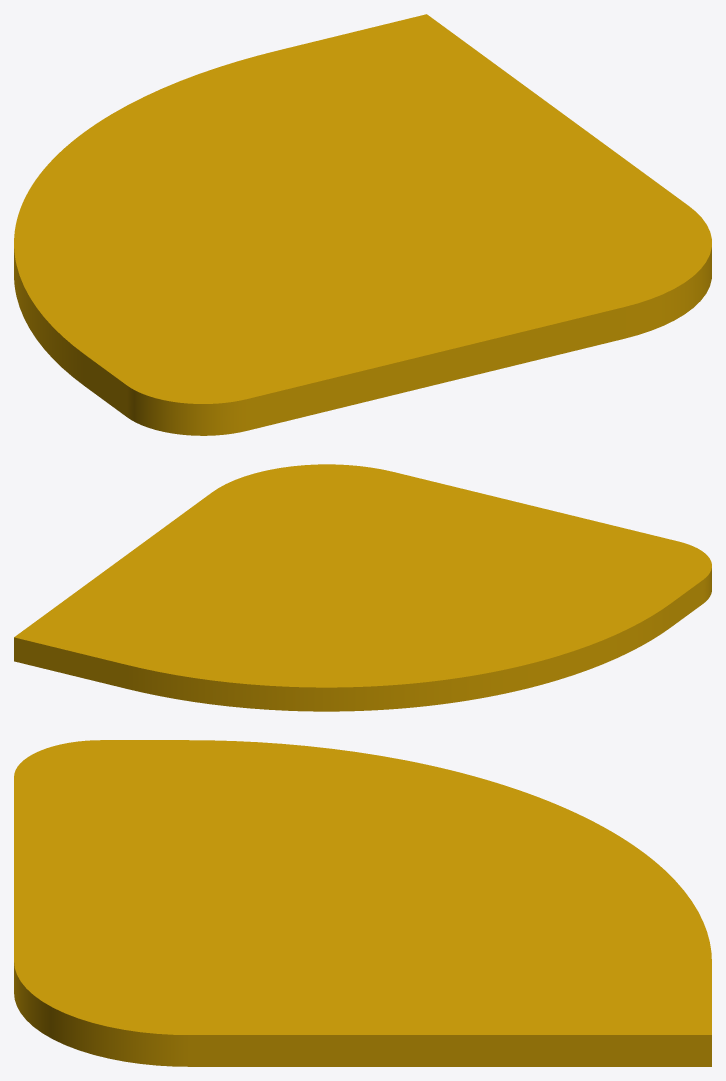
The model's file is luxury_plank_small.glb.
3 renders of one model, top to bottom at view 1: azimuth 30°, elevation 25°; view 2: azimuth 150°, elevation 25°; view 3: azimuth 270°, elevation 25°, orthographic. The views are drawn at different scales.
Size of the model in its own units: 0.0798 by 0.004 by 0.0798.
